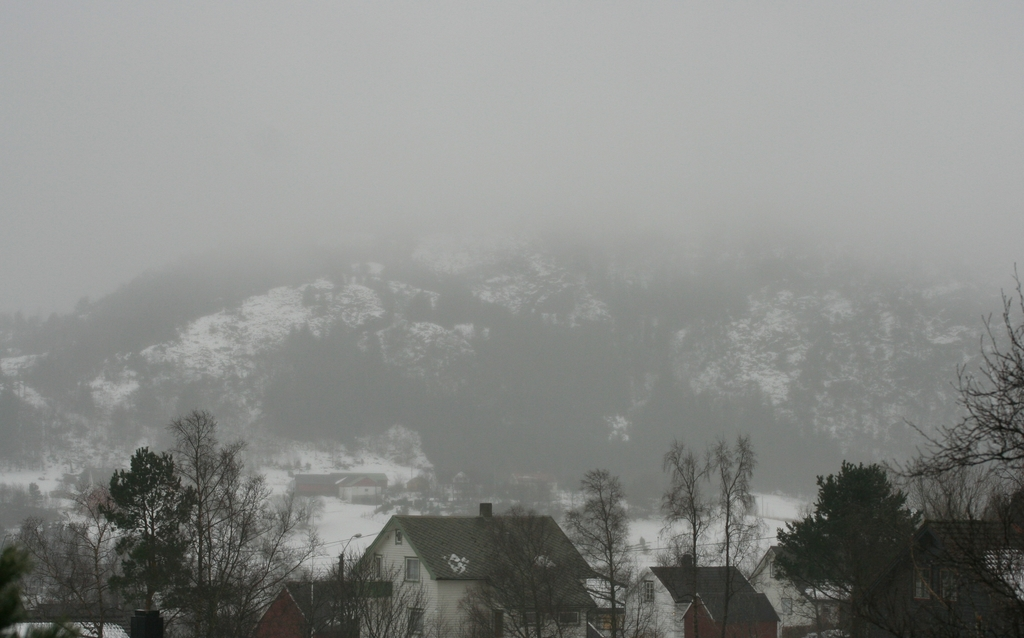Tree: (0, 260, 1024, 638), (0, 405, 326, 637)
